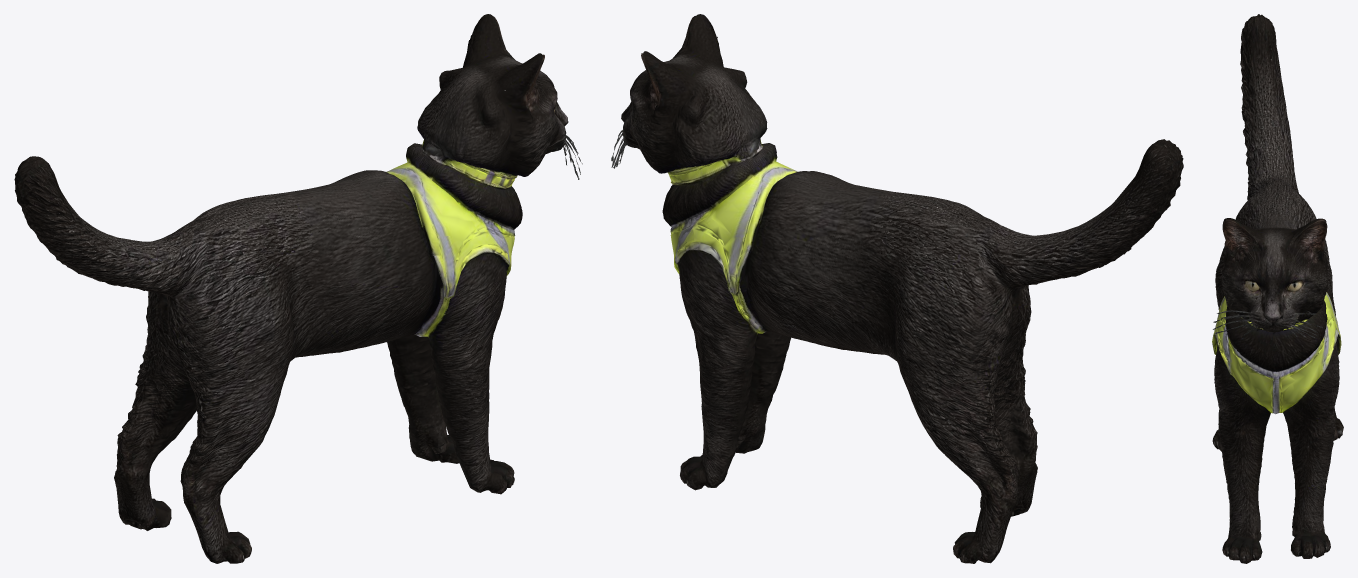
The model's file is ROLFCAT.glb.
3 views of the same model, side by side, from view 1: azimuth 30°, elevation 25°; view 2: azimuth 150°, elevation 25°; view 3: azimuth 270°, elevation 25° (orthographic). The views are drawn at different scales.
Parts seen in each view (by area): view 1: tripo_node_789398a9-4865-499c-8535-67dd225d78c3; view 2: tripo_node_789398a9-4865-499c-8535-67dd225d78c3; view 3: tripo_node_789398a9-4865-499c-8535-67dd225d78c3.
Part boxes in pixels (x1,y1,x2,y2): tripo_node_789398a9-4865-499c-8535-67dd225d78c3: (14,14,582,563); tripo_node_789398a9-4865-499c-8535-67dd225d78c3: (611,14,1183,563); tripo_node_789398a9-4865-499c-8535-67dd225d78c3: (1212,14,1343,563).
Bounding box in the file's own units: 1.35 × 0.9986 × 0.331.
1 material, 1 textured.
